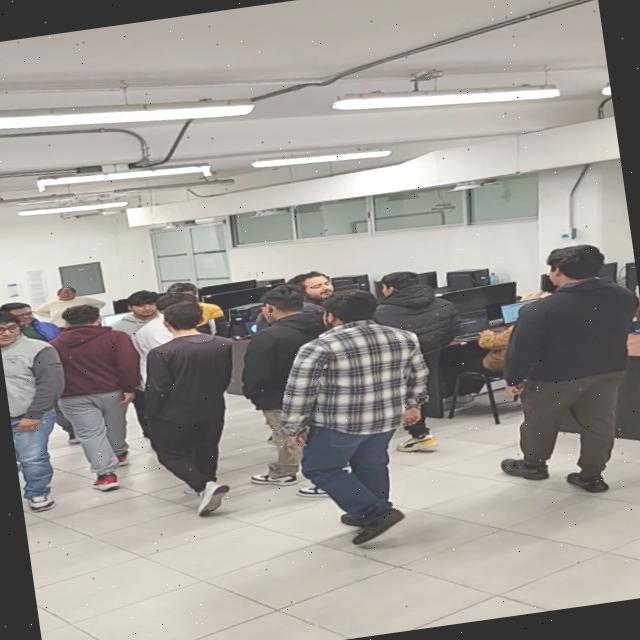Persona: (268, 278, 454, 556), (466, 233, 640, 509), (126, 298, 252, 528), (216, 280, 324, 494), (50, 294, 153, 500), (382, 249, 479, 456), (0, 302, 78, 521)
